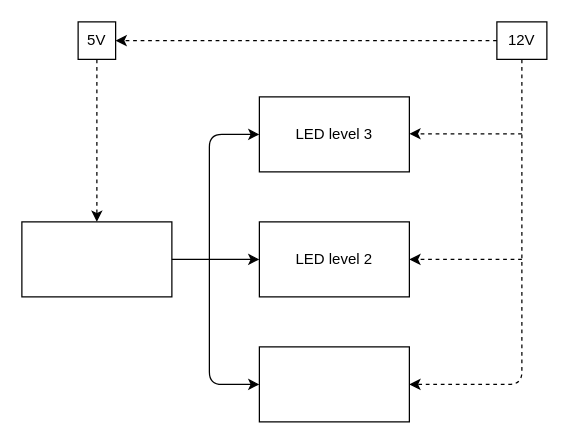
Some shapes in this 569 by 444 pixel diagram are drawn without their labels. Here are the shapes that lost their labels. From the top down, the centre of each, then its label:
At (96,259): "ESP32".
At (333,384): "LED level 1".
